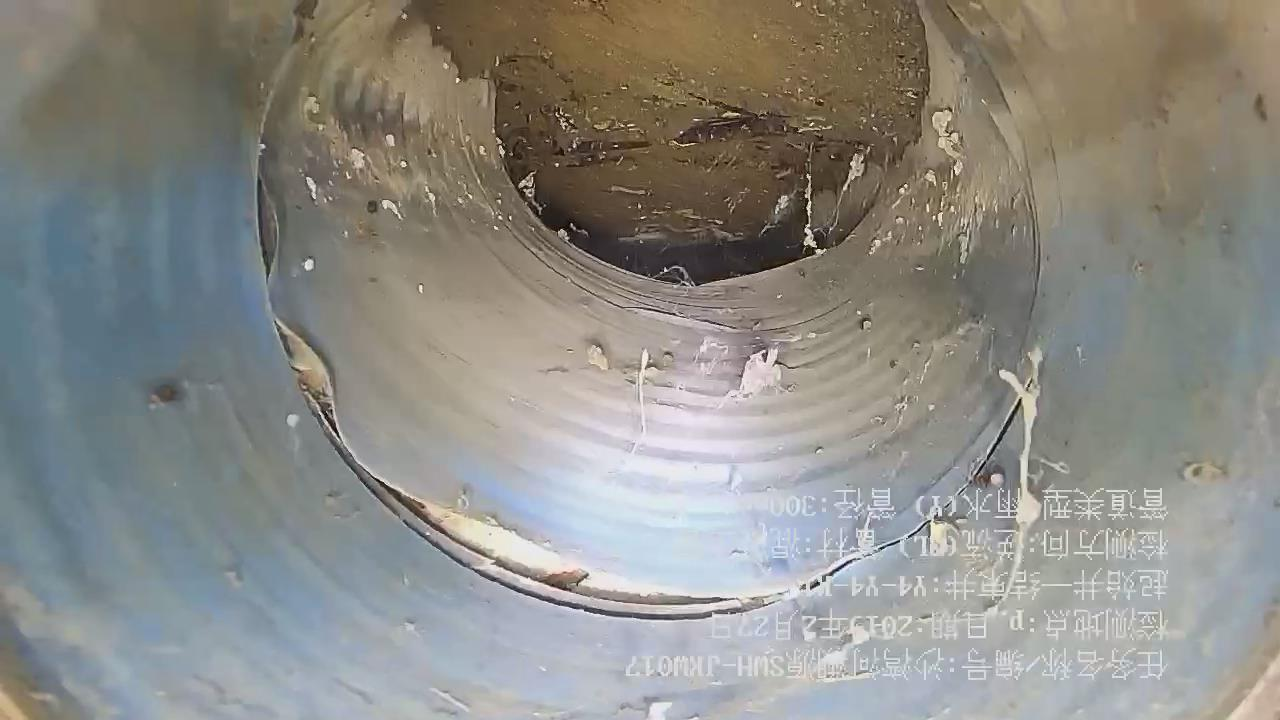CJ: (432, 1, 925, 246)
CKTJ: (302, 389, 778, 621)
PL: (266, 291, 940, 609), (972, 395, 1025, 475), (258, 163, 279, 288)
